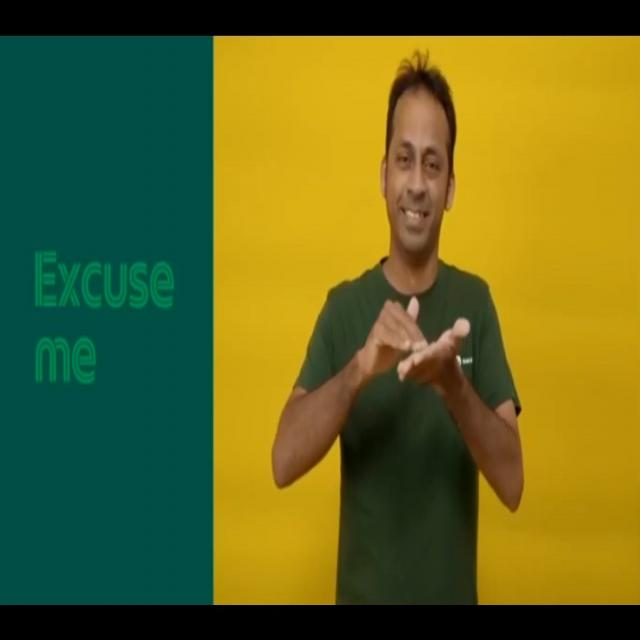ExcuseMe: (270, 60, 527, 603)
